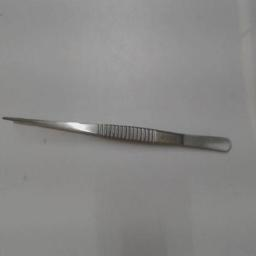DeBakey Dissector: (2, 108, 240, 160)
